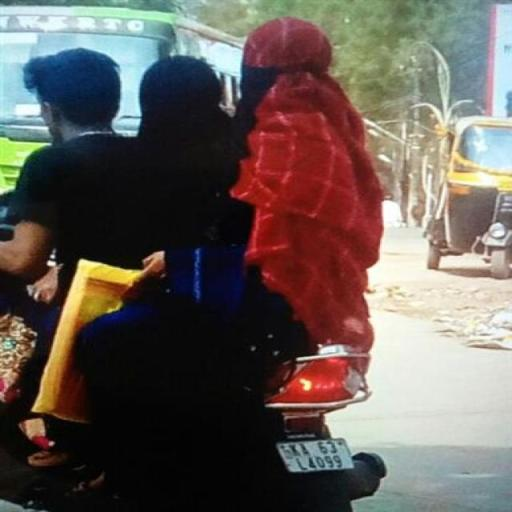tripple riding: (2, 14, 404, 369)
